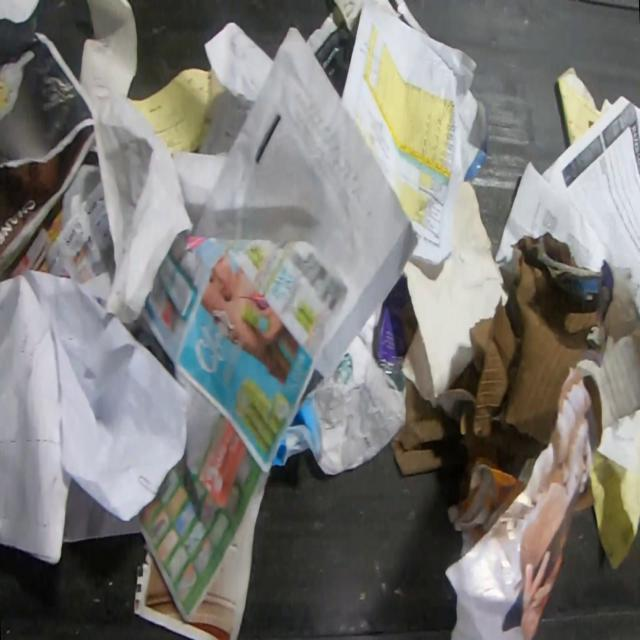cardboard: (452, 230, 640, 505), (391, 380, 469, 480)
soft_plastic: (376, 272, 418, 392)
